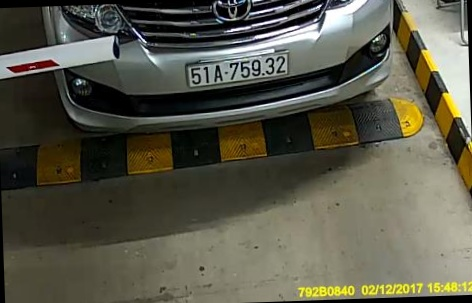plate: (177, 46, 306, 99)
